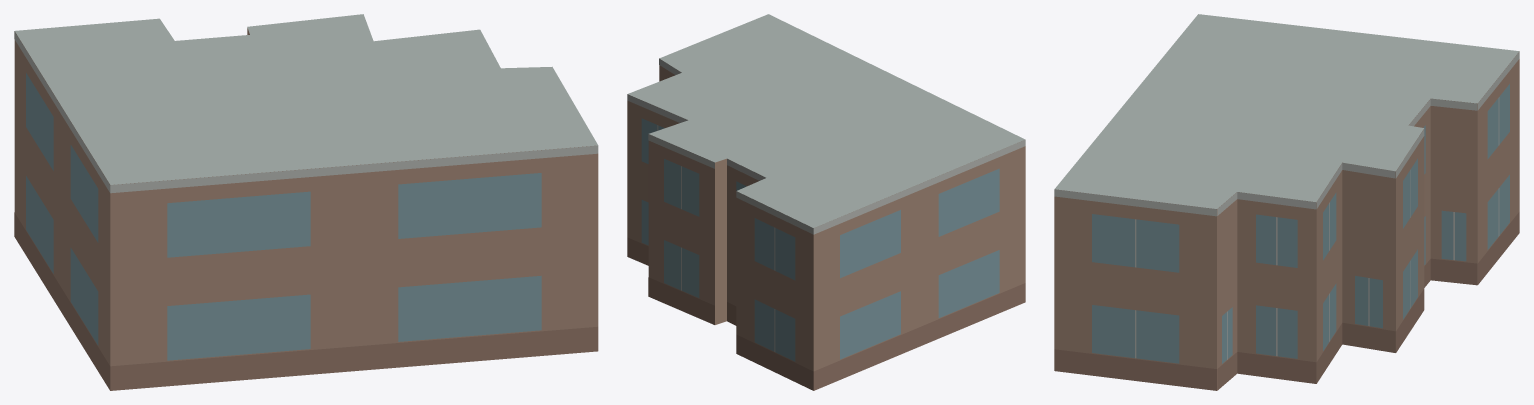
The model's file is survey-upis-32527959.glb.
3 views of the same model, side by side, from view 1: azimuth 30°, elevation 25°; view 2: azimuth 150°, elevation 25°; view 3: azimuth 270°, elevation 25° (orthographic). The views are drawn at different scales.
Visible parts, largest first — view 1: survey-upis-32527959.tmp; view 2: survey-upis-32527959.tmp; view 3: survey-upis-32527959.tmp.
Part boxes in pixels (x1,y1,x2,y2): survey-upis-32527959.tmp: [14, 14, 598, 390]; survey-upis-32527959.tmp: [627, 14, 1025, 390]; survey-upis-32527959.tmp: [1054, 14, 1519, 390].
Bounding box in the file's own units: 14.05 × 6.1 × 14.16.
